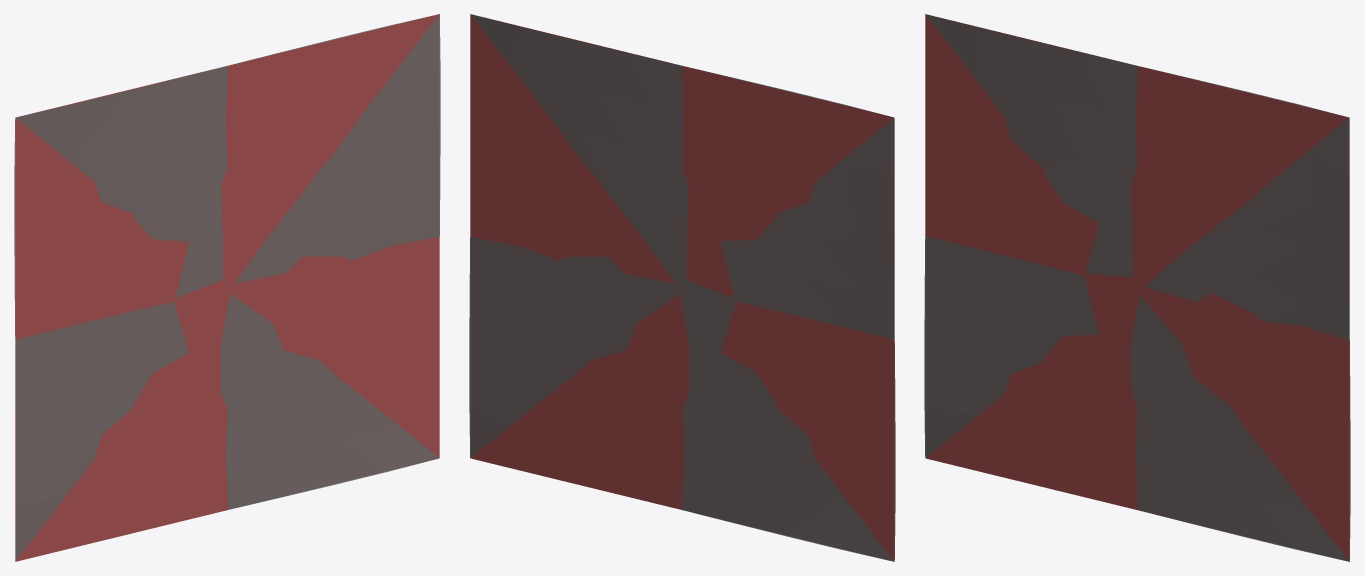
Rendered from warping-rectangle-100-100-93.glb.
3 renders of one model, left to right at view 1: azimuth 30°, elevation 25°; view 2: azimuth 150°, elevation 25°; view 3: azimuth 330°, elevation 25°, orthographic.
Parts seen in each view (by area): view 1: undeformed cross-section, cross-section with warping; view 2: undeformed cross-section, cross-section with warping; view 3: undeformed cross-section, cross-section with warping.
Boxes of the visible parts, x1=… form: undeformed cross-section: x1=15, y1=14, x2=439, y2=561; cross-section with warping: x1=14, y1=14, x2=440, y2=561; undeformed cross-section: x1=470, y1=14, x2=894, y2=561; cross-section with warping: x1=469, y1=14, x2=895, y2=561; undeformed cross-section: x1=925, y1=14, x2=1349, y2=561; cross-section with warping: x1=924, y1=14, x2=1350, y2=561.
Size of the model in its own units: 0.1 by 0.1 by 0.000718.
